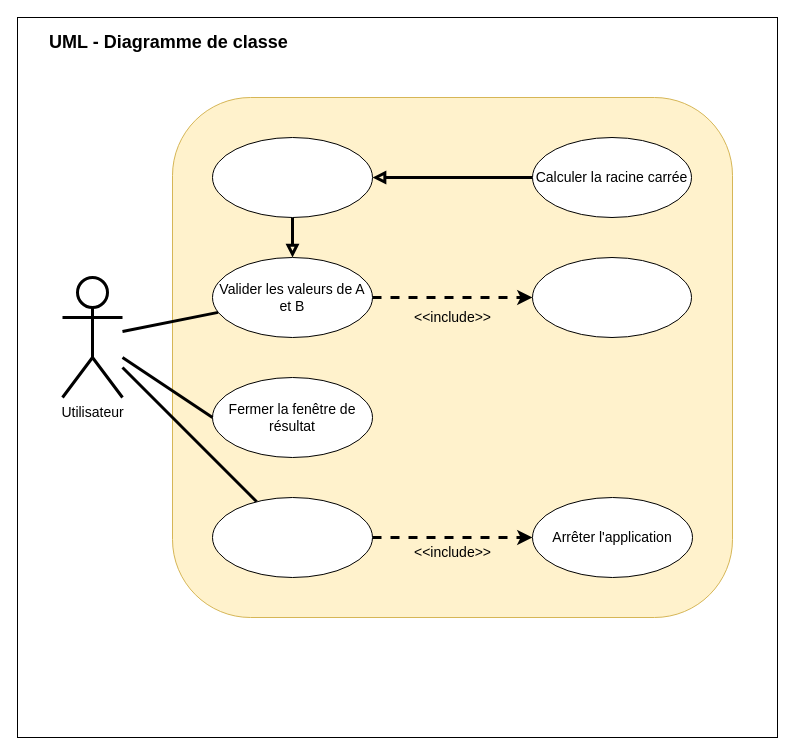
Image size: 795x755. Some labels were removed from this diagram. The shapes that lost their labels are listed below. From the top down, each one's centre as x and y in pixels, then its label:
At (x=292, y=177): "Calculer les racines carrée entre A et B".
At (x=612, y=297): "Afficher la liste des racine carrée entre A et B".
At (x=292, y=537): "Quitter l'application".
